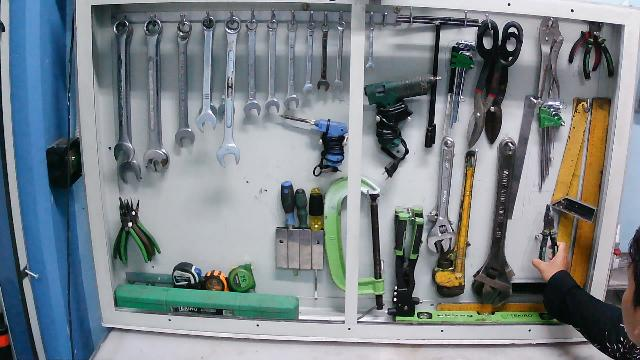tang_kombinasi: (531, 198, 569, 275)
